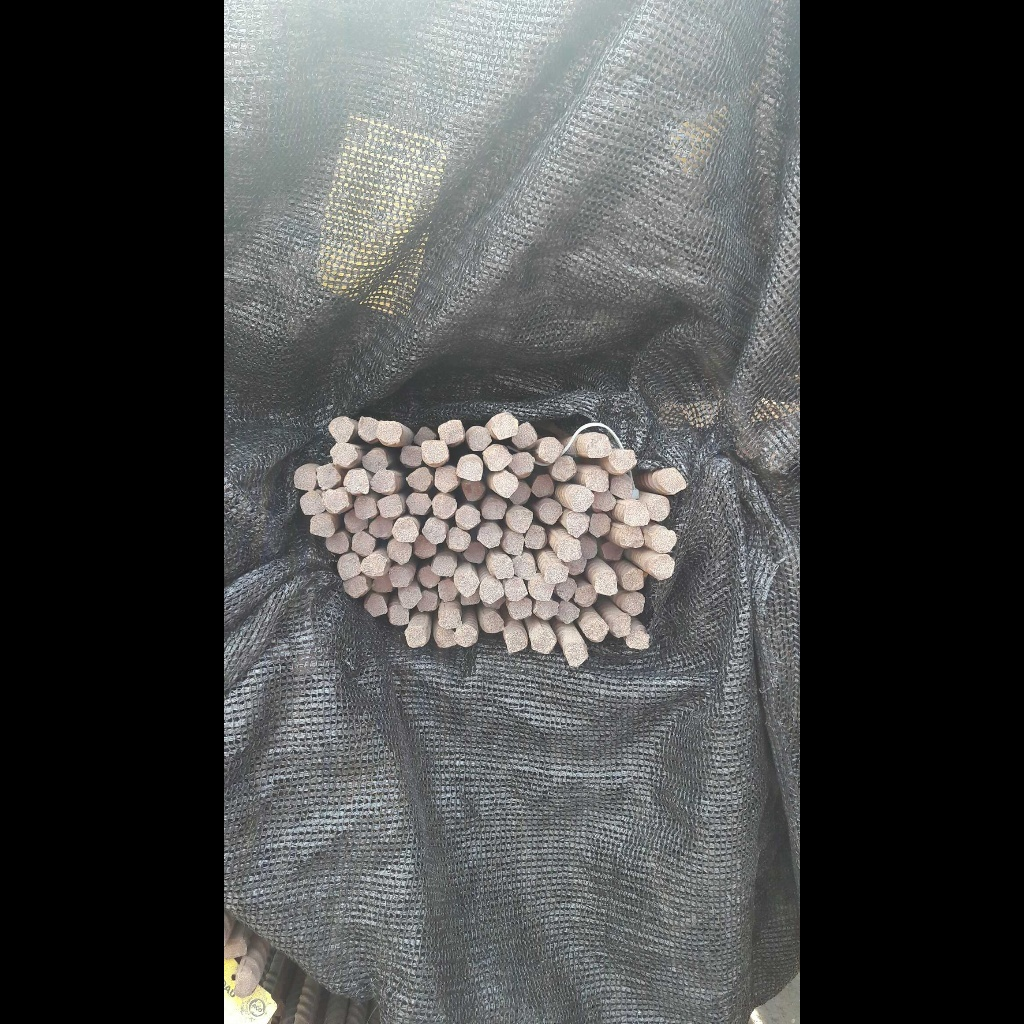dipstick: (456, 454, 484, 481), (609, 447, 637, 473), (657, 467, 686, 492), (618, 525, 645, 551), (421, 440, 448, 466), (344, 468, 370, 495), (623, 502, 650, 527), (484, 444, 509, 471), (610, 474, 639, 497), (528, 574, 554, 599), (492, 413, 517, 439), (336, 553, 361, 579), (404, 467, 431, 491), (330, 442, 357, 466), (298, 491, 325, 515), (391, 518, 418, 542), (466, 426, 491, 451), (627, 626, 651, 652), (437, 419, 463, 443), (405, 492, 431, 516), (652, 526, 675, 553), (539, 499, 562, 526), (493, 471, 516, 498), (511, 453, 535, 478), (377, 421, 402, 445), (455, 506, 481, 529), (435, 466, 458, 492), (323, 489, 349, 512), (649, 555, 676, 577), (623, 592, 647, 616), (456, 571, 480, 595), (386, 538, 410, 562), (490, 554, 513, 579), (571, 487, 594, 511), (509, 508, 532, 532), (404, 625, 427, 649), (513, 425, 536, 449), (447, 528, 470, 552), (422, 519, 446, 542), (432, 495, 456, 518), (328, 418, 351, 442), (316, 465, 339, 489), (351, 532, 374, 556), (481, 577, 503, 602), (341, 511, 367, 532), (649, 495, 669, 522), (566, 643, 589, 666), (432, 556, 455, 579), (478, 526, 501, 549), (586, 434, 610, 456), (534, 630, 556, 654), (504, 628, 526, 652), (513, 554, 535, 578), (525, 525, 547, 549), (399, 445, 423, 467), (294, 466, 316, 490), (353, 495, 377, 517), (378, 495, 402, 517), (363, 594, 387, 616), (361, 554, 385, 576), (597, 572, 618, 597), (309, 516, 334, 537), (590, 511, 610, 537), (323, 534, 350, 553), (622, 568, 644, 591), (534, 599, 557, 621), (553, 458, 576, 480), (539, 438, 562, 460), (502, 533, 525, 555), (434, 627, 457, 649), (463, 542, 486, 564), (462, 479, 485, 501), (371, 471, 394, 493), (368, 517, 391, 539), (586, 467, 607, 491), (413, 536, 434, 560), (362, 450, 386, 471), (344, 577, 368, 598), (567, 511, 587, 536), (357, 417, 377, 442), (586, 620, 608, 642), (575, 584, 596, 607), (557, 603, 580, 624), (388, 563, 409, 586), (612, 614, 631, 639), (483, 501, 505, 522), (508, 599, 532, 618), (455, 626, 476, 647), (436, 580, 457, 601), (388, 605, 409, 626), (601, 541, 623, 561), (561, 539, 581, 561), (505, 579, 528, 598), (439, 611, 462, 630), (594, 491, 615, 511), (534, 475, 555, 495), (481, 612, 502, 632), (418, 567, 439, 587), (417, 591, 436, 613), (512, 482, 530, 505), (581, 536, 597, 561), (555, 579, 575, 599), (565, 557, 586, 576), (546, 564, 567, 583), (414, 426, 435, 445), (401, 587, 420, 608), (373, 575, 392, 595), (460, 591, 480, 606), (481, 597, 504, 610)
